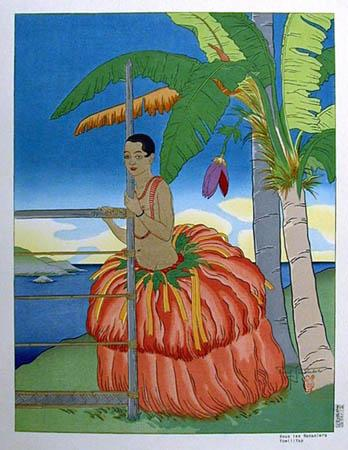person: (101, 133, 185, 276)
